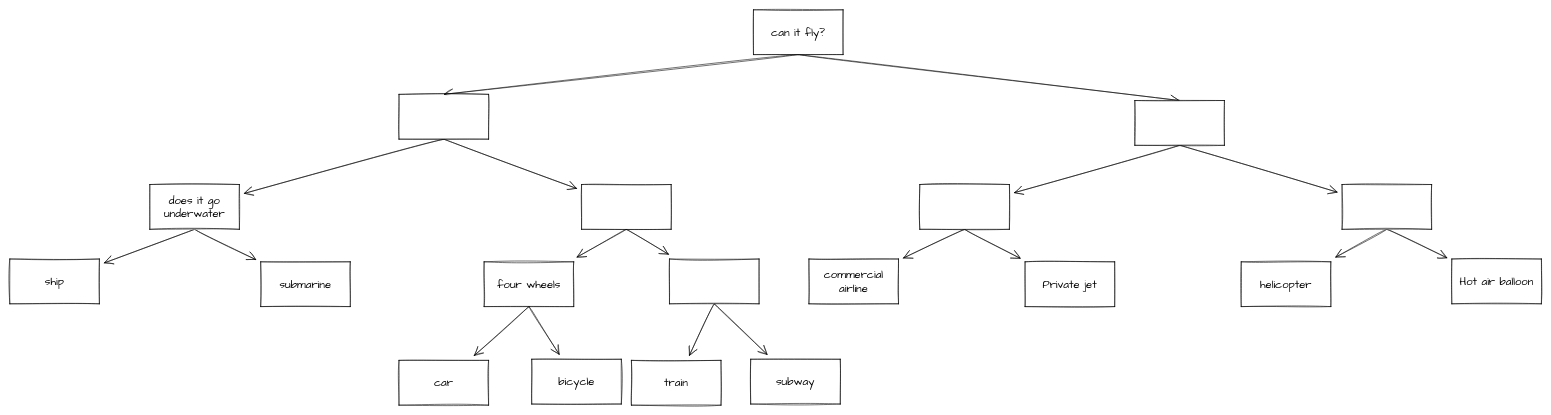
Some shapes in this 1551 by 415 pixel diagram are drawn without their labels. Each missing label, with the centre of its shape:
"does it go in tracks?" goes at (x=626, y=206).
"does it go on land?" goes at (x=443, y=116).
"does it have wings?" goes at (x=1179, y=122).
"does it use hot air?" goes at (x=1386, y=206).
"privately owned?" goes at (x=964, y=206).
"underground?" goes at (x=714, y=281).
